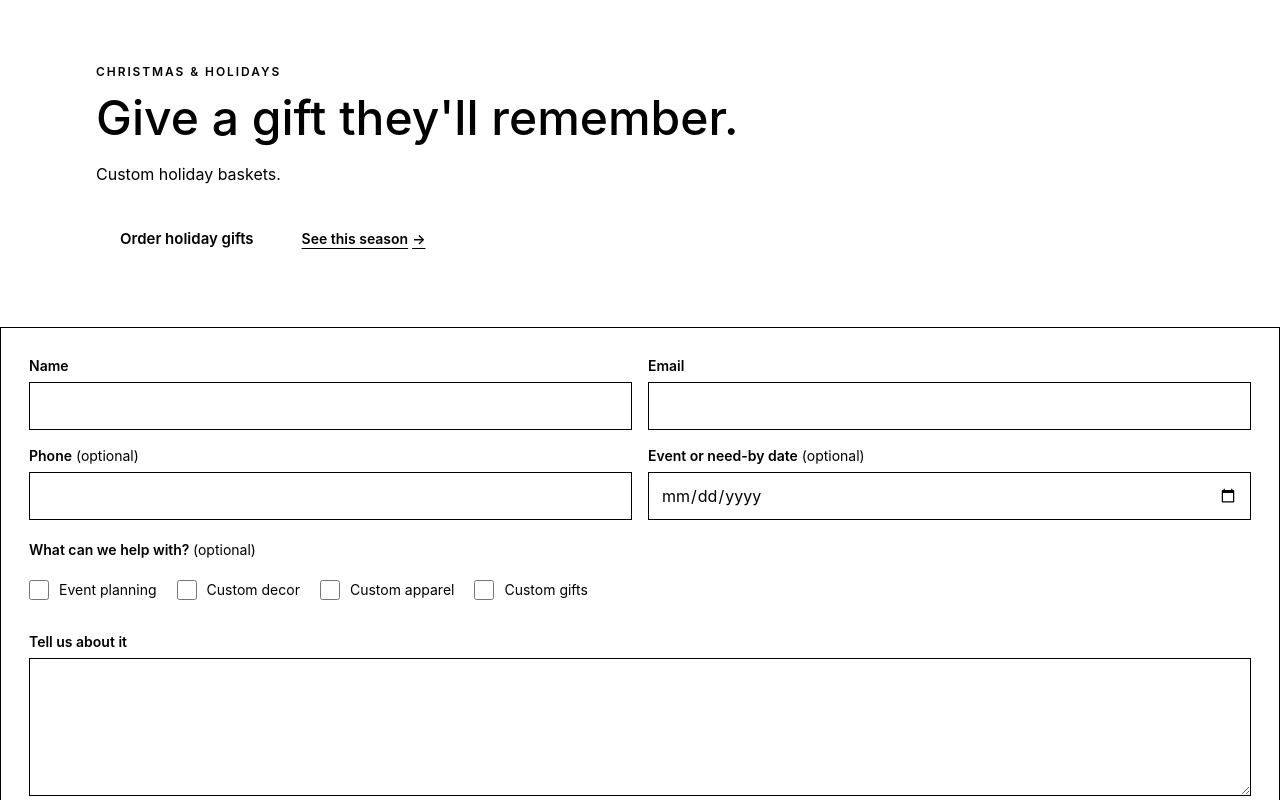
Test case: season chip › This Season's button on the home page names the season and checks its service without a reload
In the field labelled "Name": (330, 406) top-left (29, 382), bottom-right (632, 430), type "Maria Lopez"
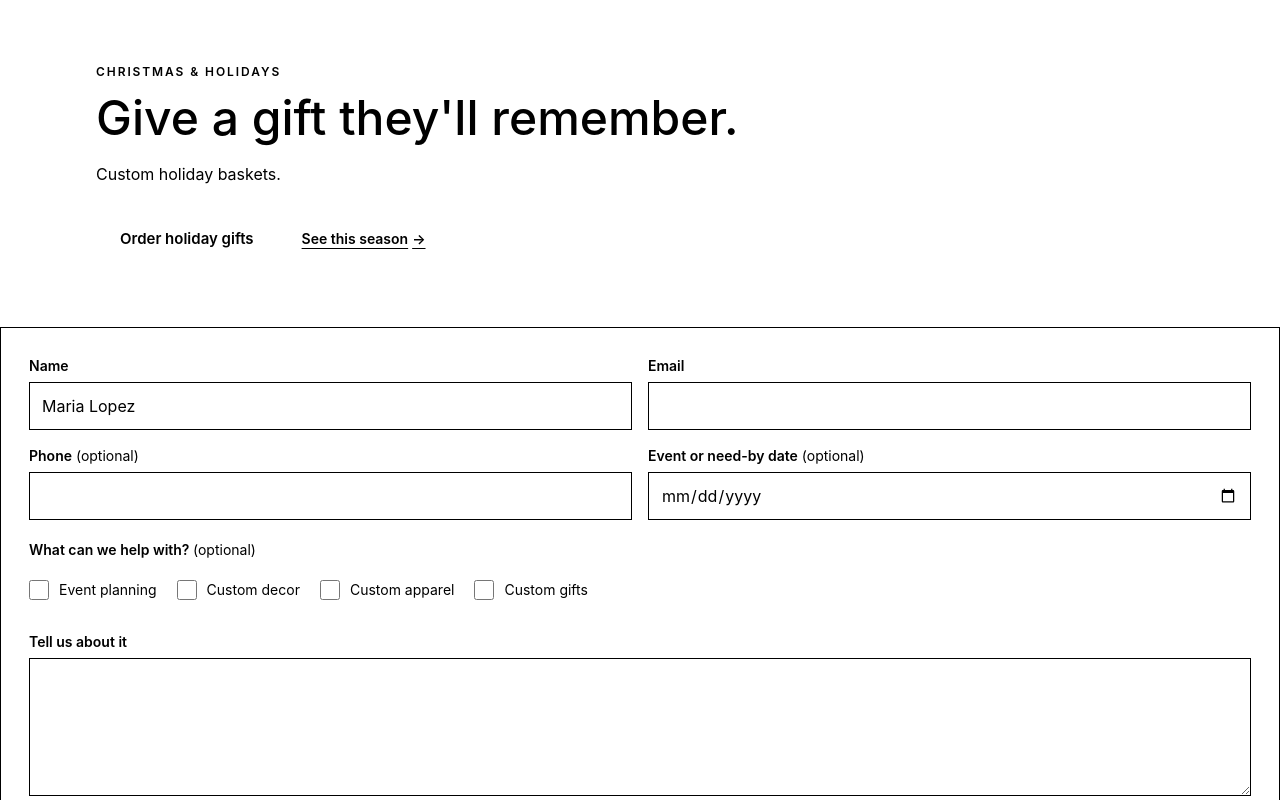
In the field labelled "Email": (950, 406) top-left (648, 382), bottom-right (1251, 430), type "maria@example.com"
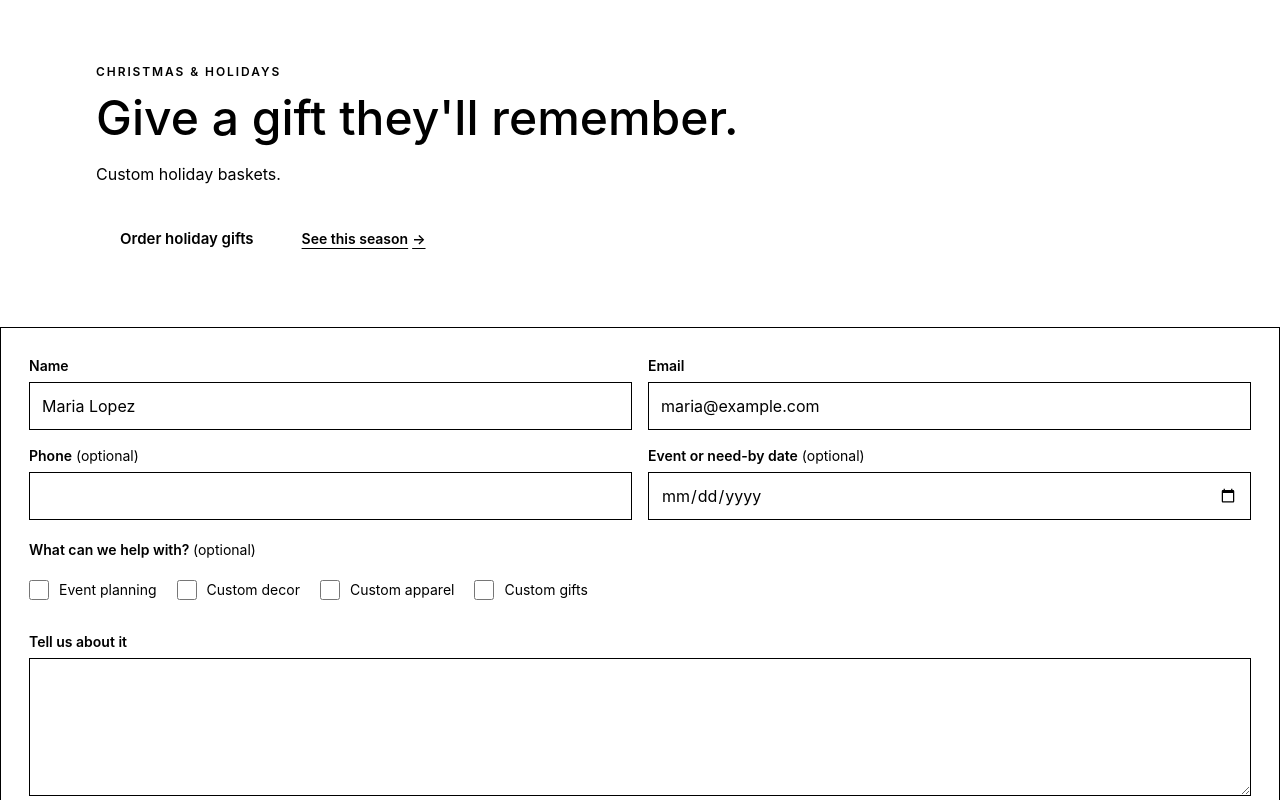
In the text box labelled "Tell us about it": (640, 727) top-left (29, 658), bottom-right (1251, 796), type "Quinceañera in June, about 120 guests."
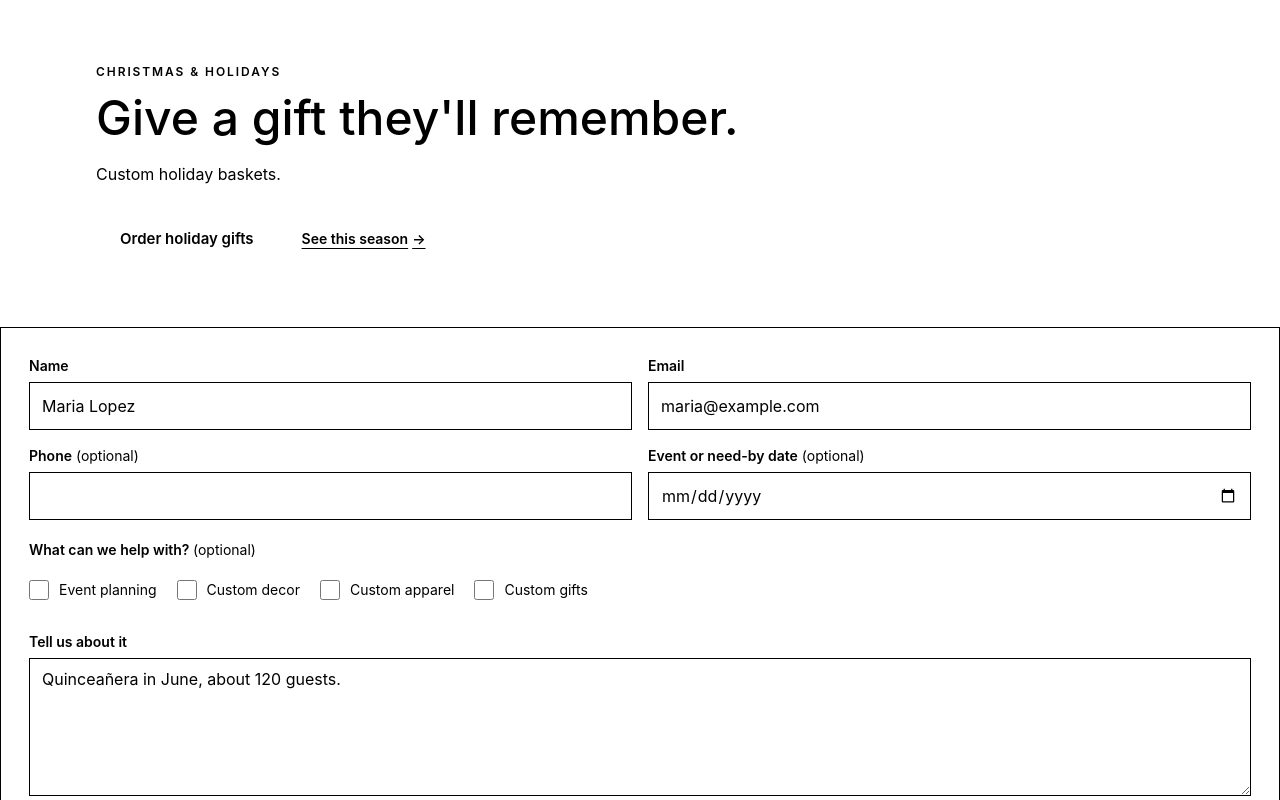
Click the link "Order holiday gifts": (187, 238) top-left (120, 228), bottom-right (254, 248)
(page scrolled)
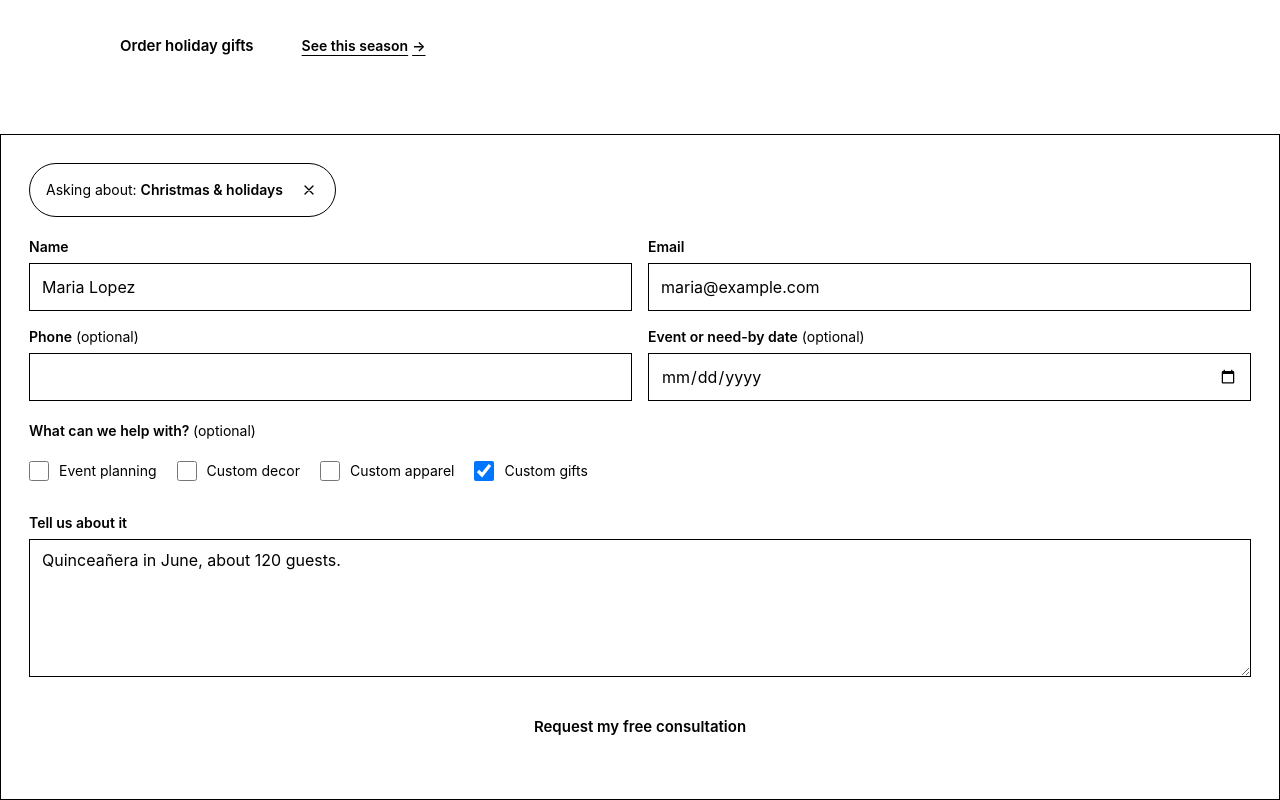
Expected: the text "Asking about: Christmas & holidays" is shown, top-left (46, 180), bottom-right (283, 200)
Expected: the checkbox labelled "Custom gifts" is checked, top-left (474, 461), bottom-right (494, 481)
